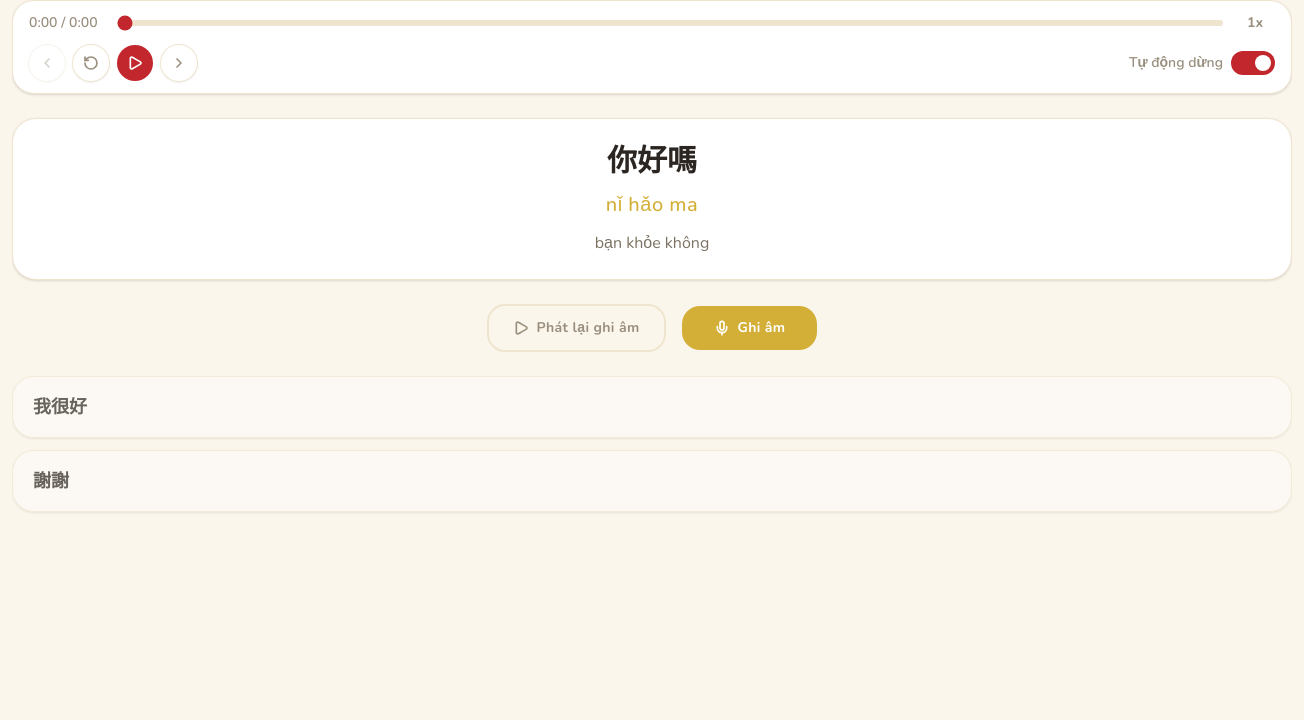
Test case: ShadowingScreen › does not grade or show a result when auto-pause is OFF, even after recording stops with a transcript
Click the switch named "Tự động dừng".
click(1253, 63)  # box [1231,51,1275,75]
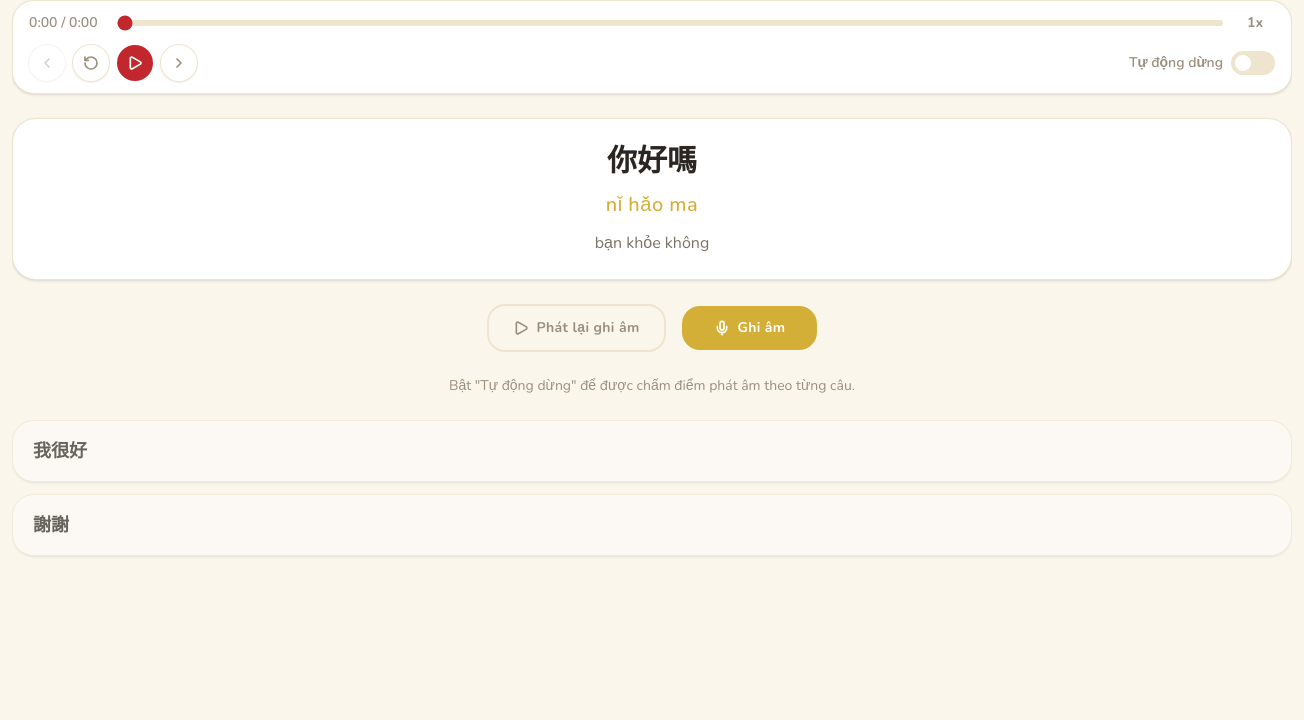
Click the button "Ghi âm".
click(749, 328)  # box [682,306,817,350]
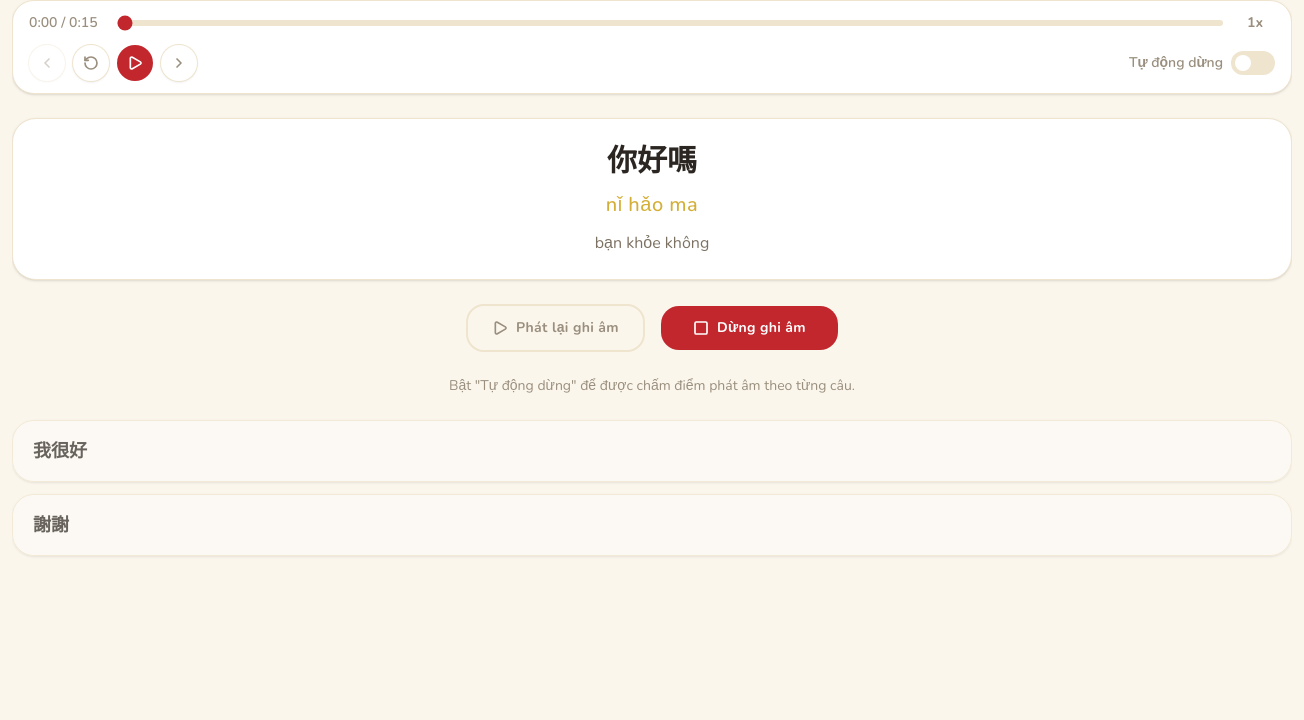
Click the button "Dừng ghi âm".
click(750, 328)  # box [661,306,838,350]
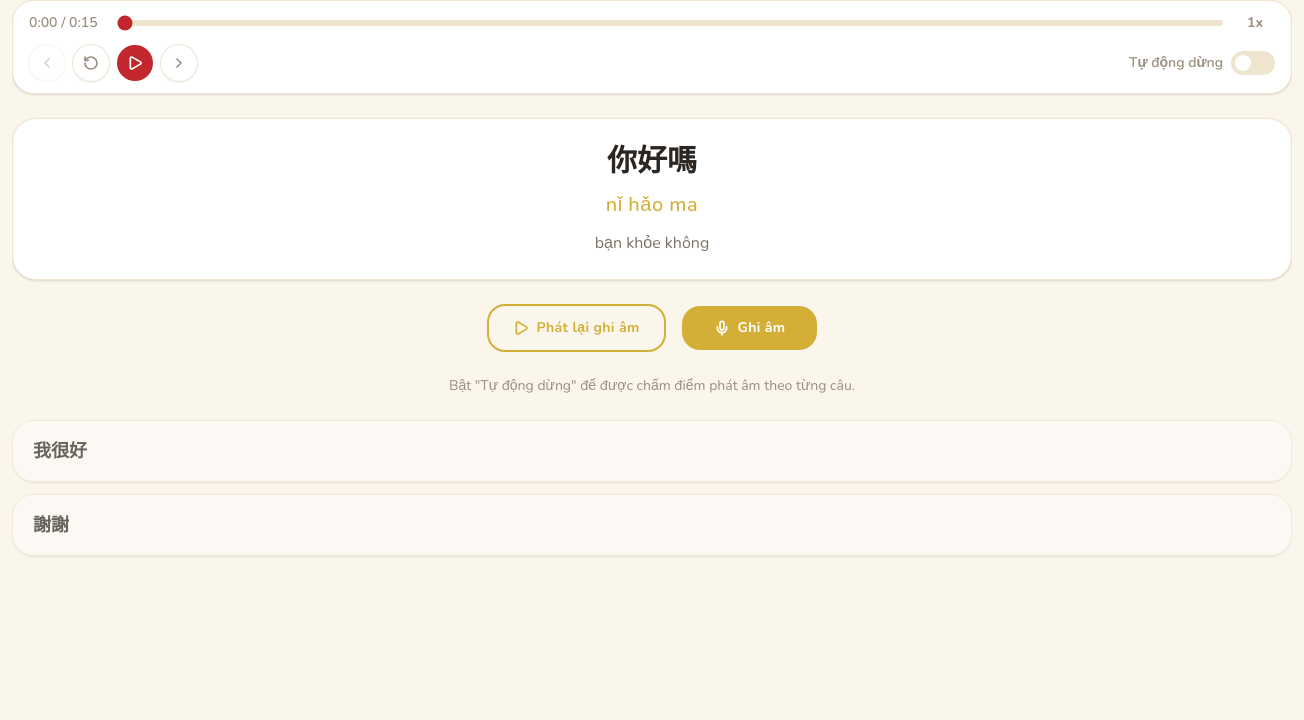
Check: the button "Phát lại ghi âm" is enabled, box [487,304,666,352]
